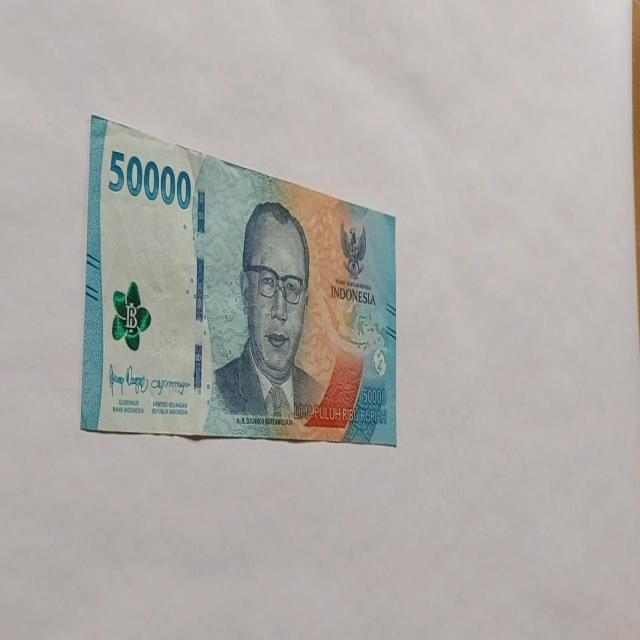lima puluh ribu rupiah: (80, 112, 398, 446), (202, 199, 328, 437)
